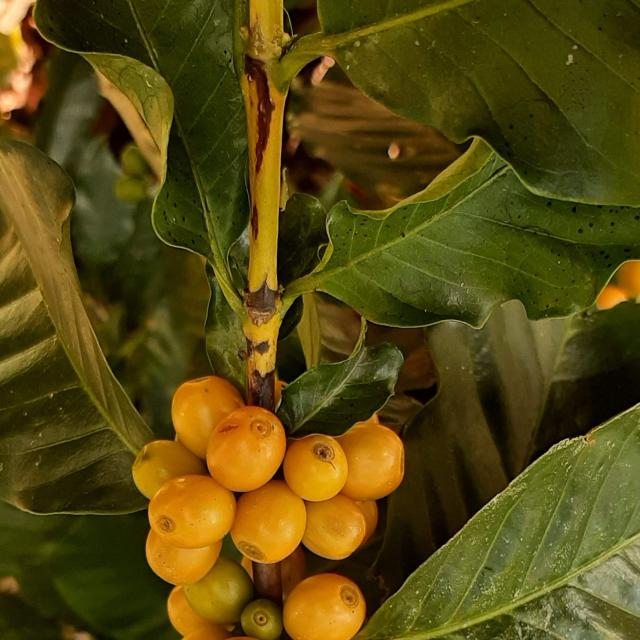Ripe: (148, 476, 236, 550), (230, 480, 307, 564), (336, 415, 405, 502), (283, 574, 366, 640), (145, 530, 222, 586), (302, 495, 366, 561), (167, 587, 215, 637)
Unripe: (183, 557, 254, 626), (241, 600, 283, 640)
